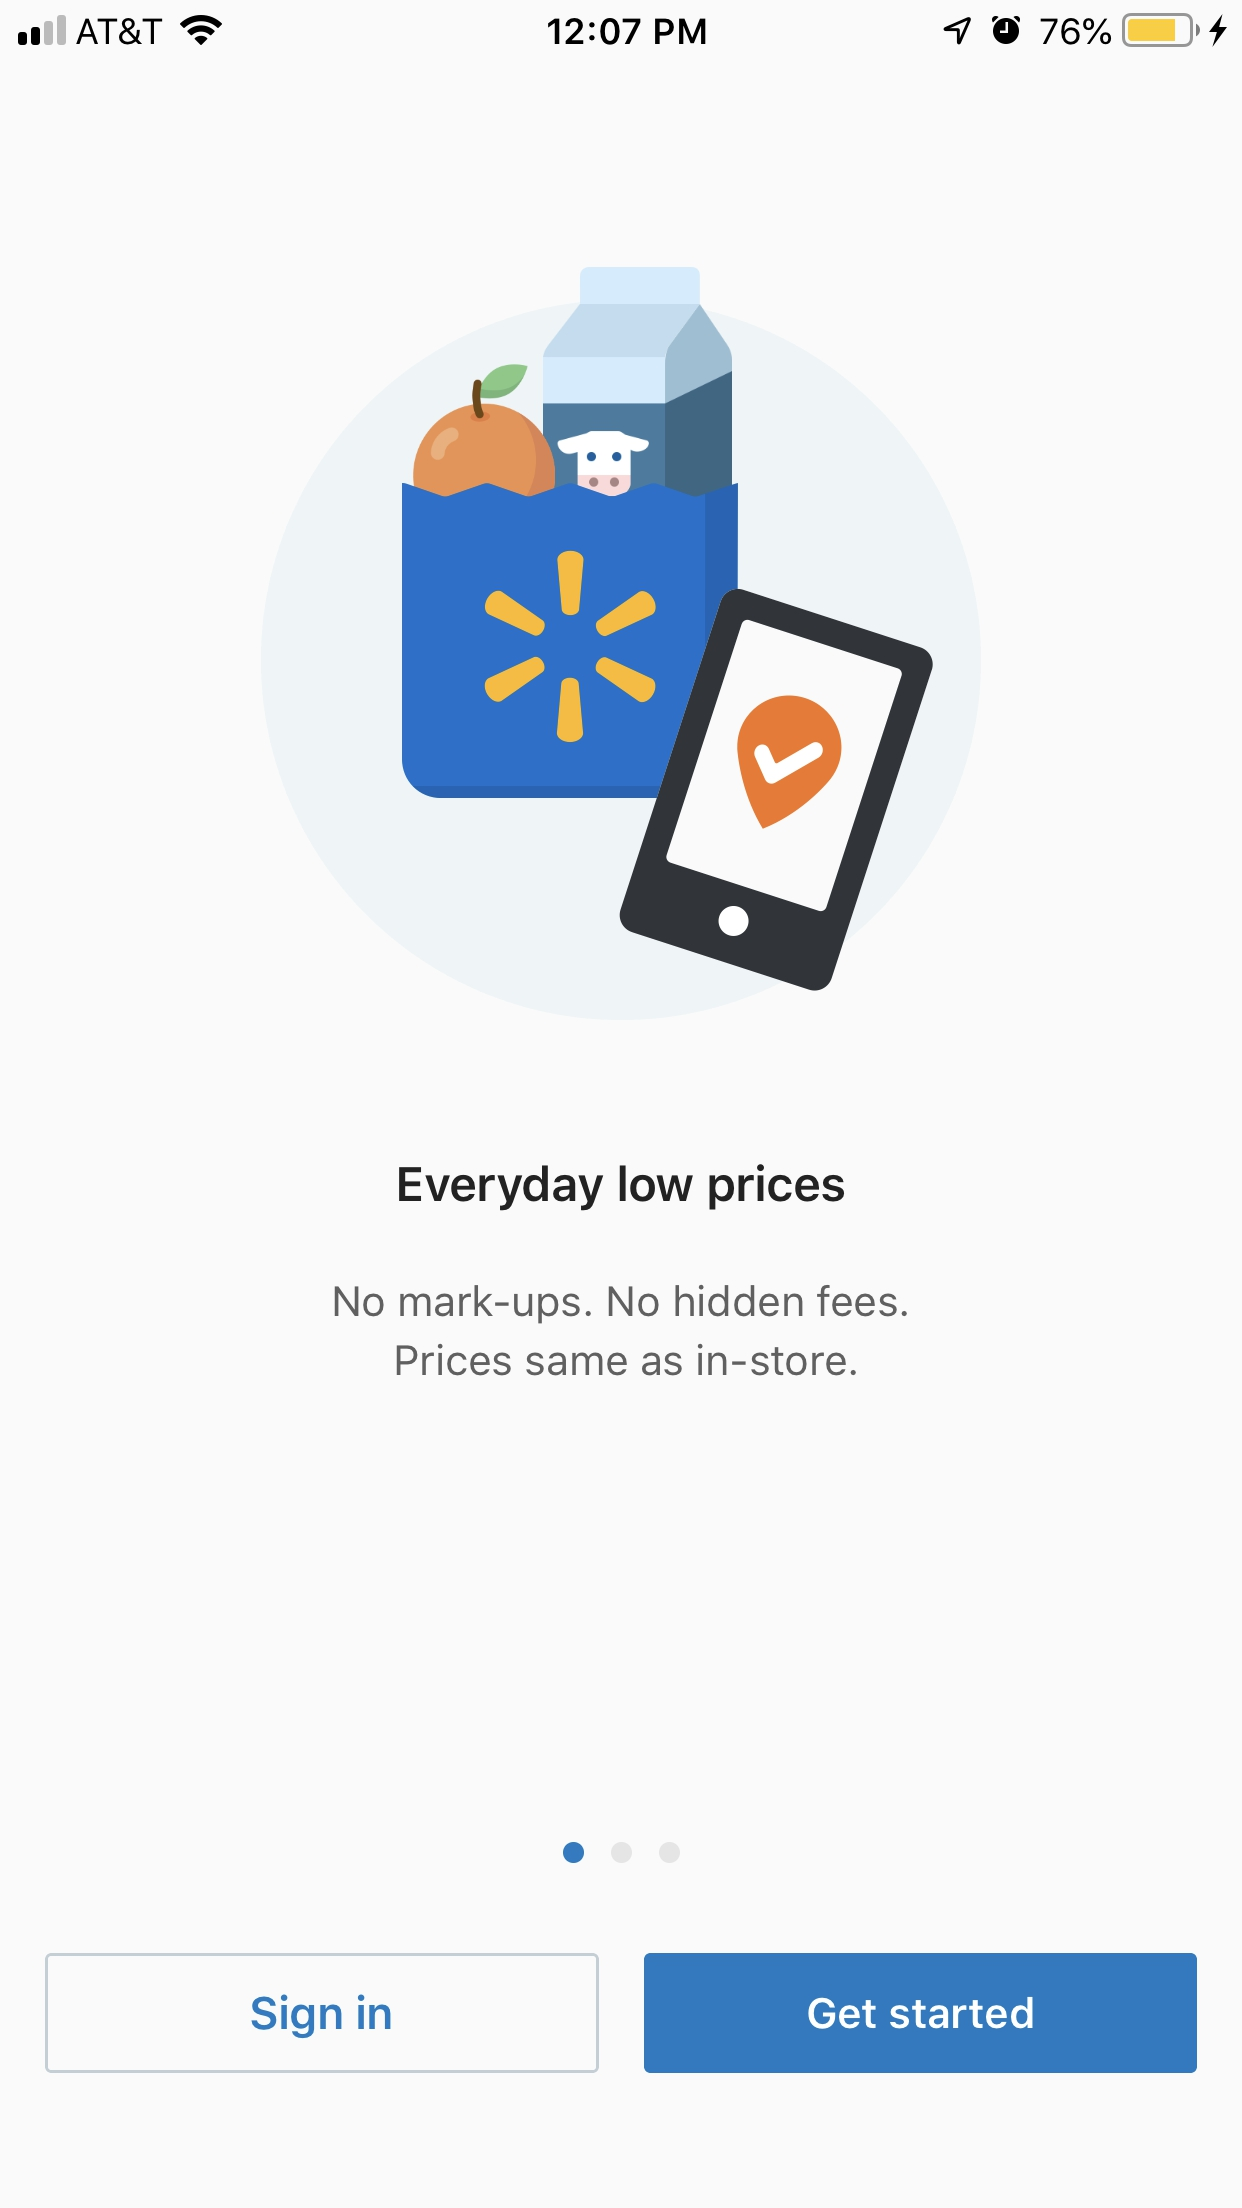Image: (261, 267, 983, 1022)
PageIndicator: (563, 1841, 682, 1865)
Text: (334, 1284, 908, 1377), (397, 1165, 845, 1212)
TextButton: (45, 1952, 601, 2075), (645, 1952, 1198, 2075)
UpperTaskBar: (2, 2, 1242, 49)
